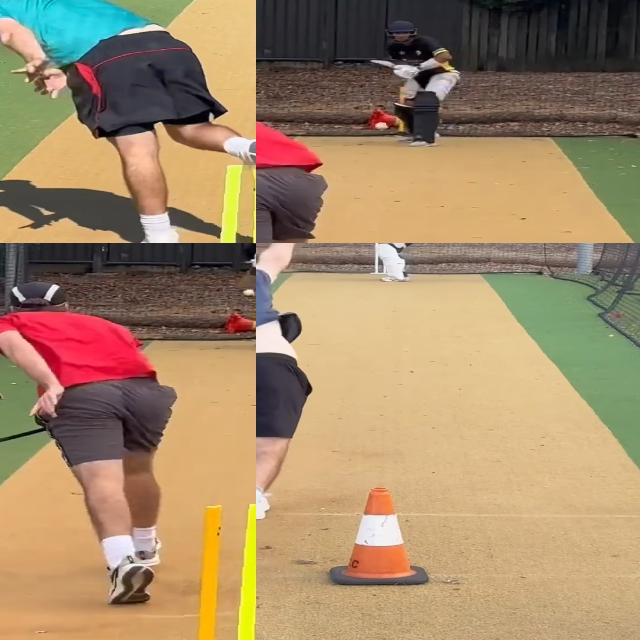Cricket ball: (374, 121, 390, 131), (241, 288, 256, 298)
Stumps: (182, 503, 256, 640)
